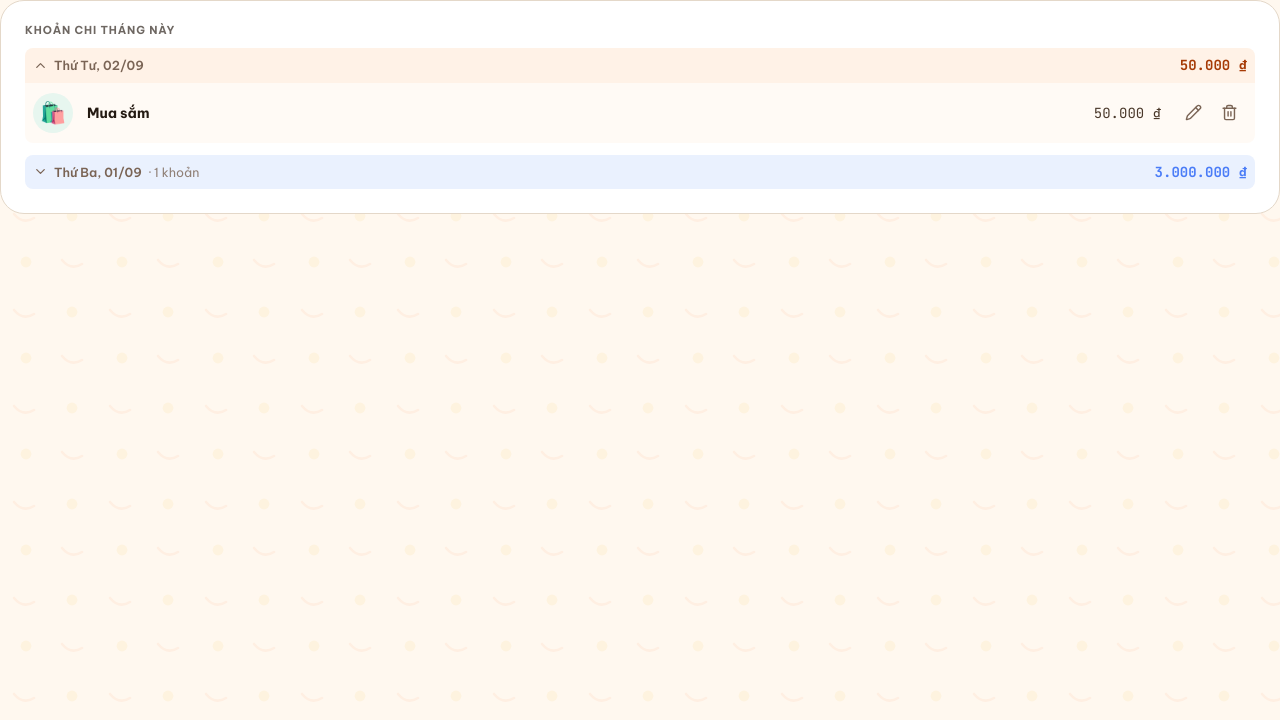
Test: ExpenseListCard › asks for confirmation, naming the tag, amount and day, before removing an expense
What coordinates should you click on to do the following:
click the button named "Xoá khoản chi Mua sắm"
I would click on:
 (1229, 113)
Its box is [1211,95,1247,131].
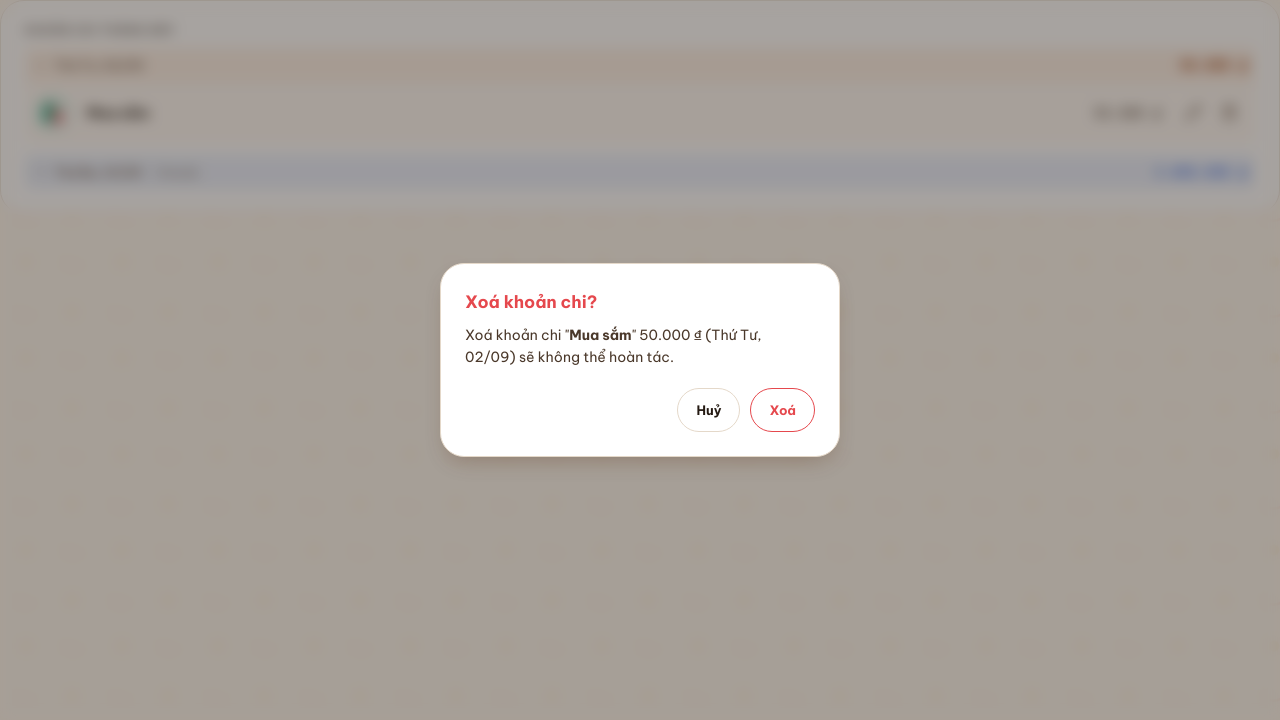
Expected: the text "Xoá khoản chi?" is shown, [465,291,597,313]
Expected: the text "Mua sắm" is shown, [569,326,632,344]
Expected: the dialog shows "50.000 ₫", [639,326,702,344]
What coordinates should you click on to do the following:
click the button "Xoá"
I would click on:
 (783, 410)
Its box is [750,388,815,432].
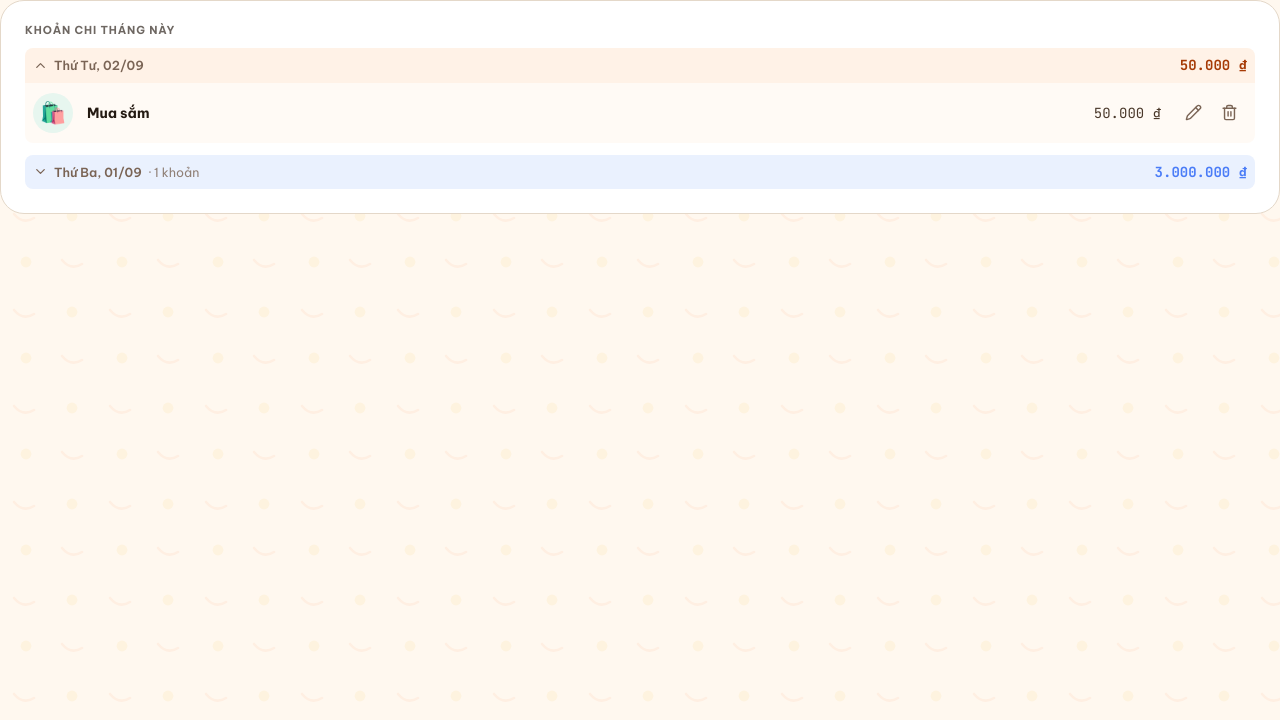
Expected: the dialog is gone
